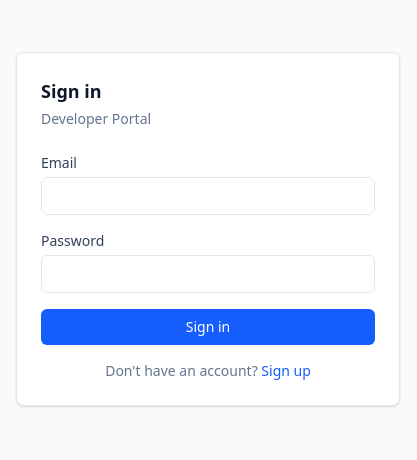
Test case: AuthPage › signup requiring email confirmation shows a notice instead of redirecting
The image size is (417, 460).
Click the button "Sign up" at [286, 371], box x1=261 y1=361 x2=311 y2=381
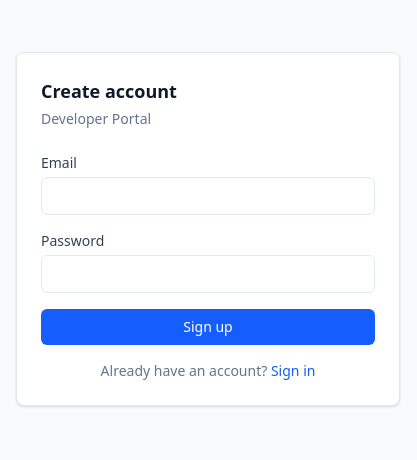
Type "new@x.com" into the field labelled "Email" at [208, 196], box x1=41 y1=177 x2=375 y2=215
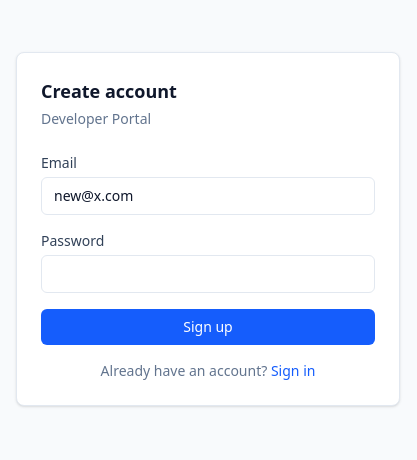
Type "password1" into the password field labelled "Password" at [208, 274], box x1=41 y1=255 x2=375 y2=293
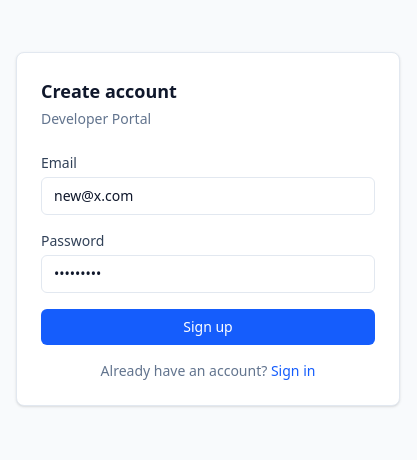
Click the button "Sign up" at [208, 327], box x1=41 y1=309 x2=375 y2=345
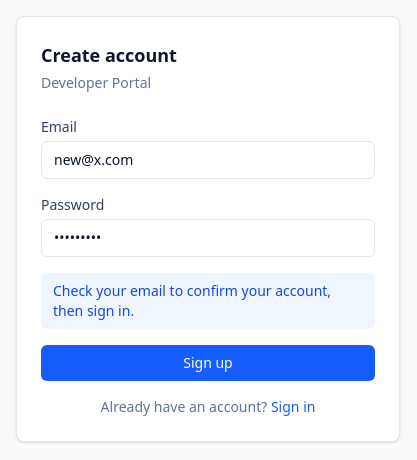
Now the text "Check your email to confirm your account, then sign in." is shown, box x1=41 y1=273 x2=375 y2=329
